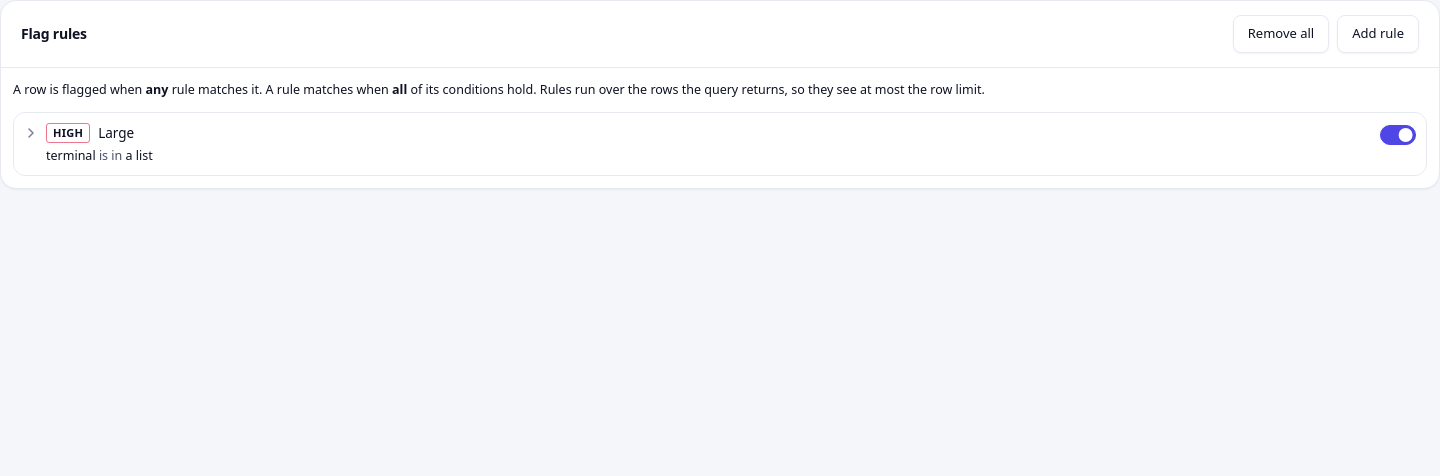
list operators › keeps a list that is not in the loaded set, marked as removed
Click the button "high Large terminal is in a list".
click(68, 133)  # box [24,123,1372,164]
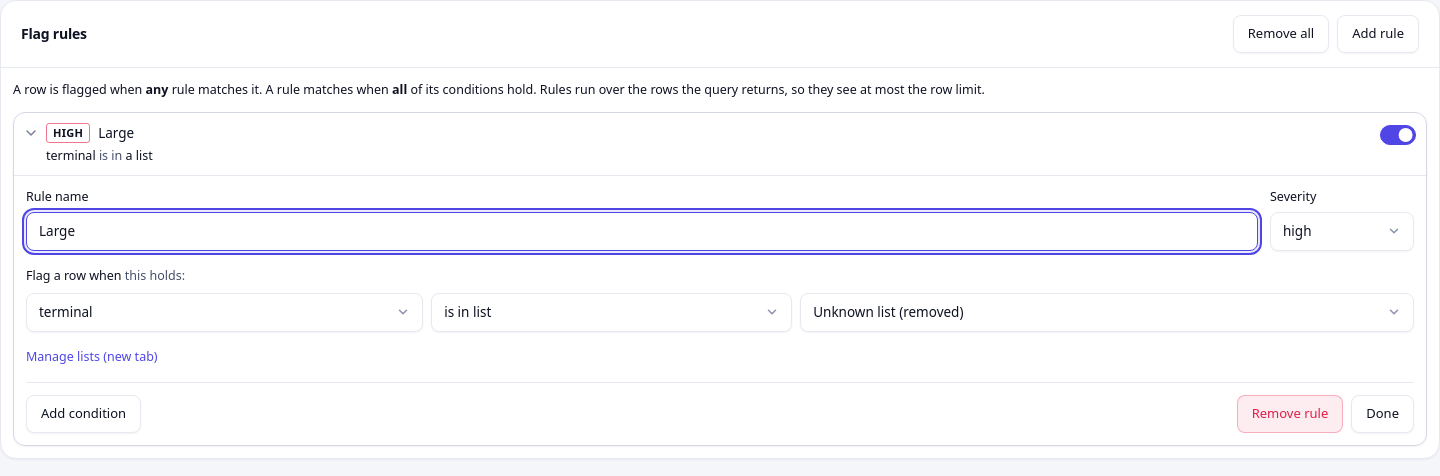
Check: the dropdown named "List" shows "Unknown list (removed)", box [800,293,1414,332]
